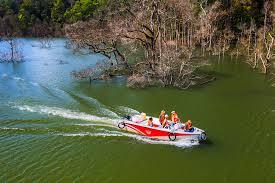Ship: (119, 112, 208, 143)
